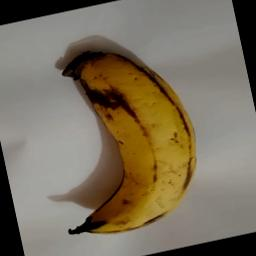Banana Unripe: (37, 34, 216, 244)
